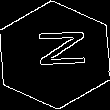N_W: (26, 34, 84, 76)
